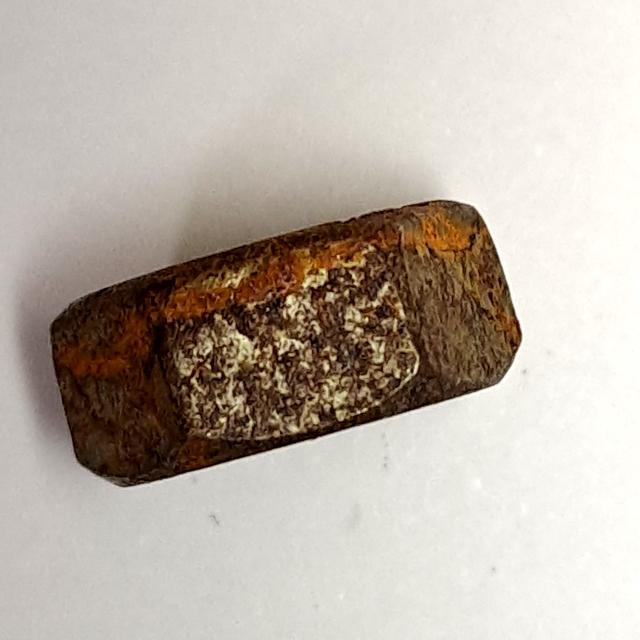Side_Rust: (30, 188, 557, 502)
